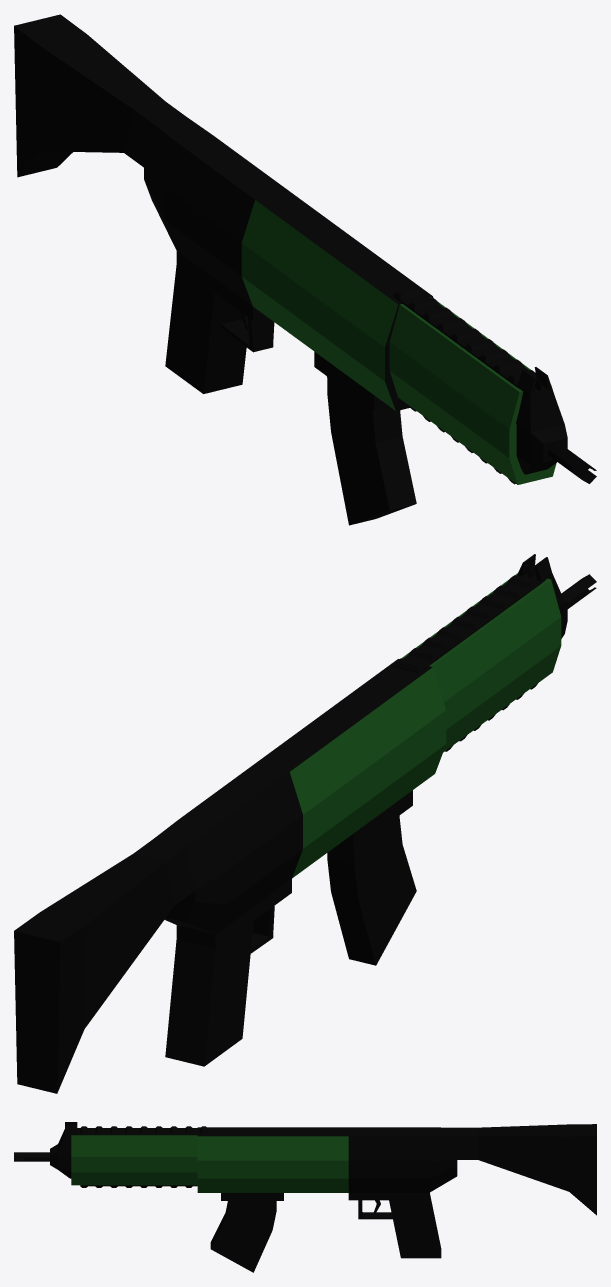
The model's file is AutomaticRifle.fbx.
3 renders of one model, top to bottom at view 1: azimuth 30°, elevation 25°; view 2: azimuth 150°, elevation 25°; view 3: azimuth 270°, elevation 25°, orthographic. The views are drawn at different scales.
Visible parts, largest first — view 1: RifleBase, Barrel Holder, Magazine, Barrel, End; view 2: RifleBase, Barrel Holder, Magazine, Barrel; view 3: RifleBase, Barrel Holder, Magazine, Barrel, End, LowerBarrel.
Boxes of the visible parts, <box> form: RifleBase: <box>14,14,433,411</box>; Barrel Holder: <box>389,297,556,484</box>; Magazine: <box>327,376,416,525</box>; Barrel: <box>393,287,567,474</box>; End: <box>548,441,596,483</box>; RifleBase: <box>14,659,446,1093</box>; Barrel Holder: <box>401,573,561,752</box>; Magazine: <box>327,815,416,965</box>; Barrel: <box>393,554,567,672</box>; RifleBase: <box>197,1124,596,1258</box>; Barrel Holder: <box>71,1135,197,1185</box>; Magazine: <box>210,1201,276,1272</box>; Barrel: <box>50,1122,207,1178</box>; End: <box>14,1152,49,1161</box>; LowerBarrel: <box>80,1185,197,1187</box>.
Bounding box in the file's own units: 159 × 681 × 2472.
